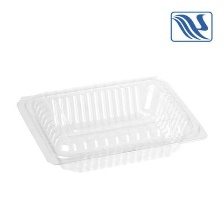plastic_box: (9, 68, 215, 180)
